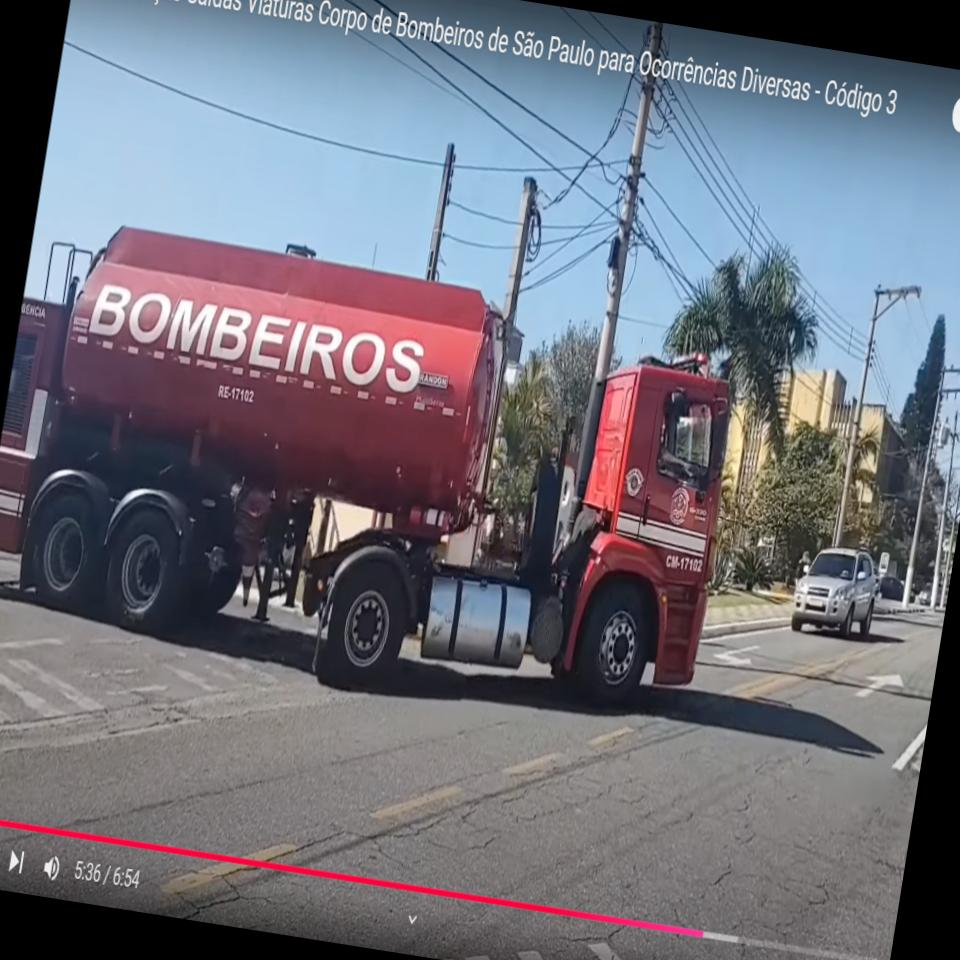viatura: (0, 203, 754, 734)
